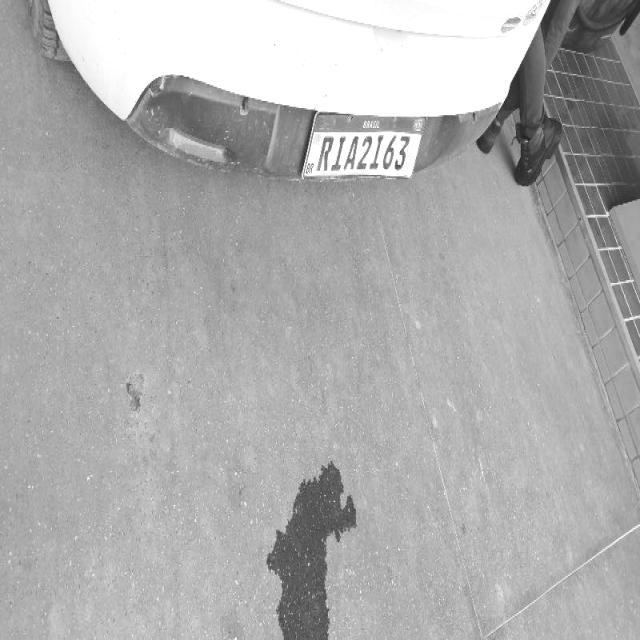placa_mercosul: (299, 113, 427, 178)
